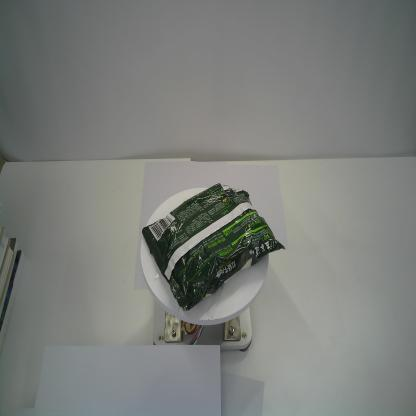Instant Noodles: (141, 180, 289, 313)
